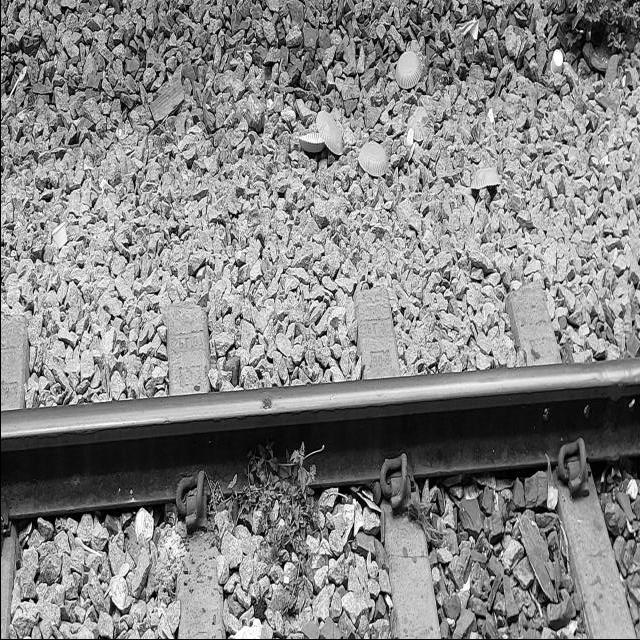broken_rail_medium: (328, 393, 333, 403), (276, 395, 280, 401), (322, 384, 324, 389), (274, 403, 276, 407)
head_checks_high: (260, 392, 272, 413)
